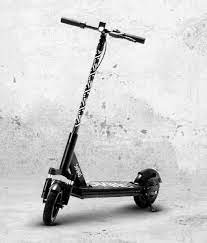kick_board: (41, 16, 160, 223)
kick_body: (87, 182, 136, 196)
kick_handler: (61, 16, 145, 48)
kick_wheel: (139, 170, 160, 206), (43, 182, 61, 223)
